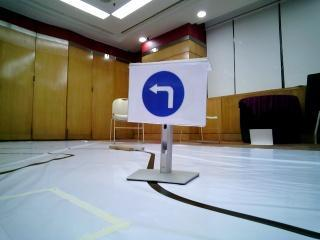left: (132, 64, 206, 124)
